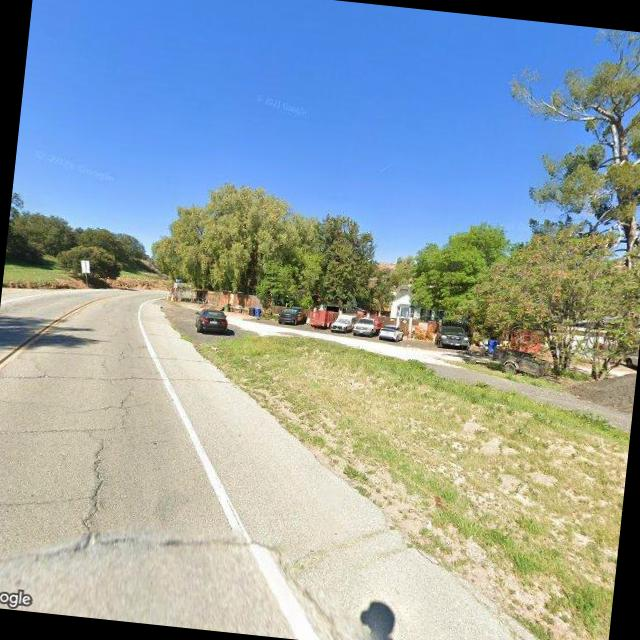crack: (0, 335, 162, 567)
pothole: (76, 438, 112, 534)
